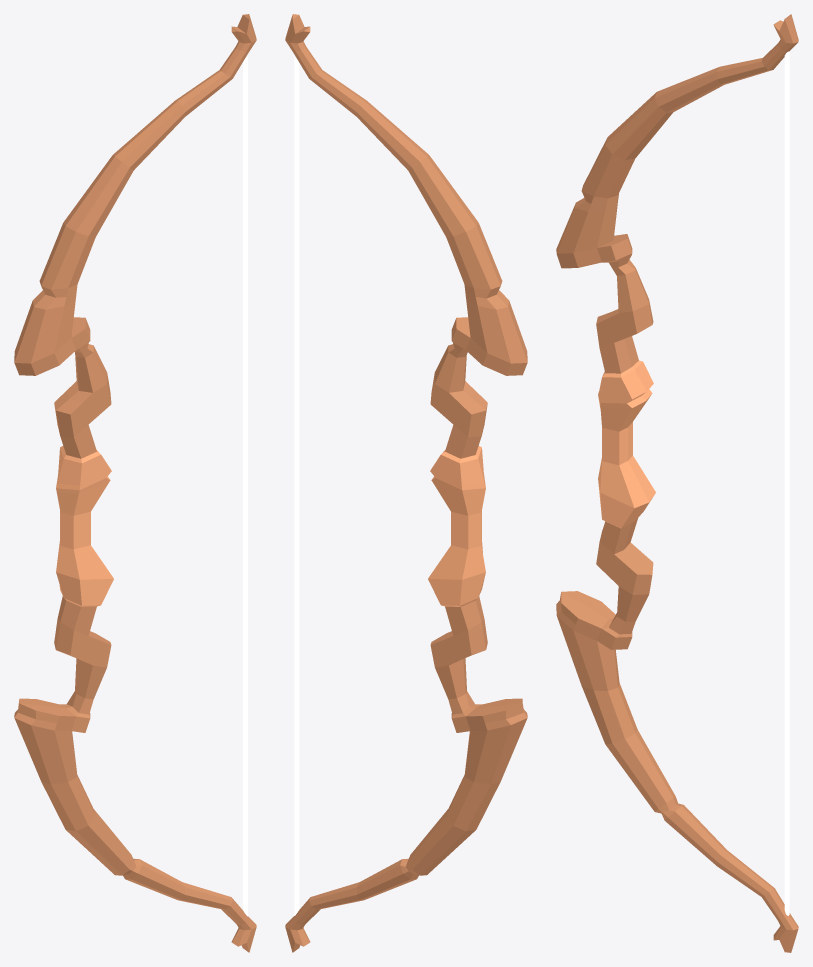
Rendered from bow.glb.
3 views of the same model, side by side, from view 1: azimuth 30°, elevation 25°; view 2: azimuth 150°, elevation 25°; view 3: azimuth 330°, elevation 25° (orthographic).
Visible parts, largest first — view 1: Bow_Wooden; view 2: Bow_Wooden; view 3: Bow_Wooden.
Boxes of the visible parts, x1,y1,x2,y2 form: Bow_Wooden: (14, 14, 256, 952); Bow_Wooden: (285, 14, 527, 952); Bow_Wooden: (556, 14, 798, 952).
Bounding box in the file's own units: 0.2894 × 1.07 × 0.048.
